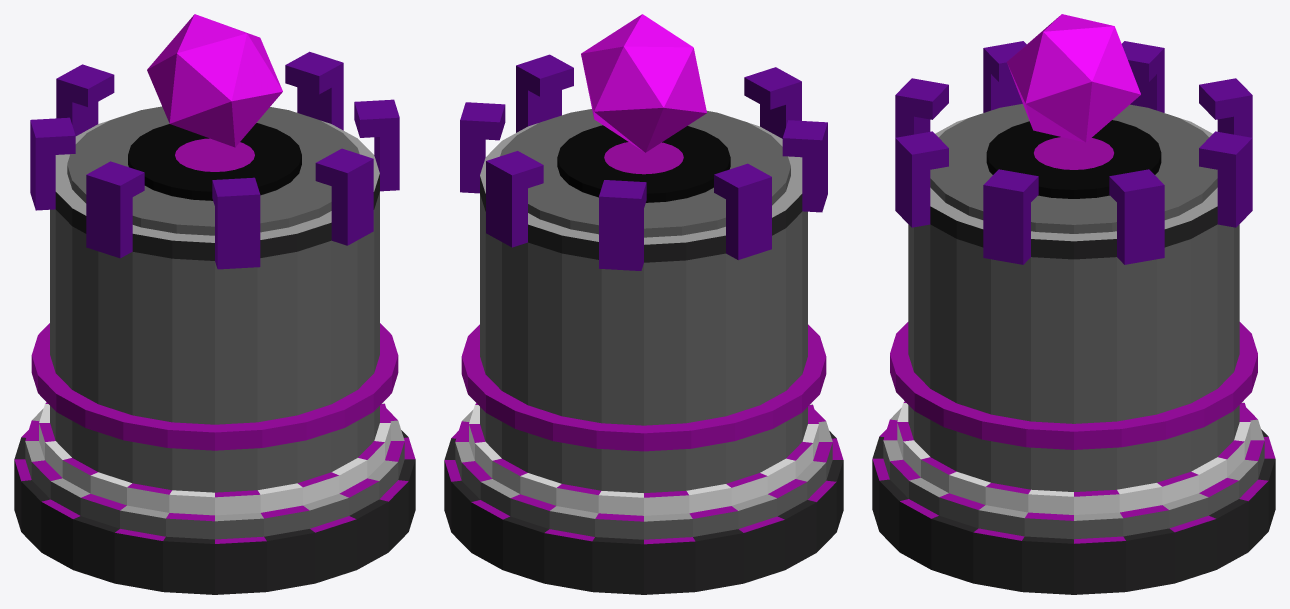
File: Tower Mage fb.fbx
3 views of the same model, side by side, from view 1: azimuth 30°, elevation 25°; view 2: azimuth 150°, elevation 25°; view 3: azimuth 270°, elevation 25° (orthographic).
Visible parts, largest first — view 1: Cylinder, Icosphere; view 2: Cylinder, Icosphere; view 3: Cylinder, Icosphere.
Boxes of the visible parts, left/top/right/bottom form: Cylinder: left=14, top=51, right=415, bottom=594; Icosphere: left=147, top=14, right=282, bottom=147; Cylinder: left=444, top=54, right=843, bottom=594; Icosphere: left=581, top=14, right=706, bottom=152; Cylinder: left=872, top=41, right=1275, bottom=594; Icosphere: left=1007, top=14, right=1140, bottom=142.
Size of the model in its own units: 200 by 266 by 200.
